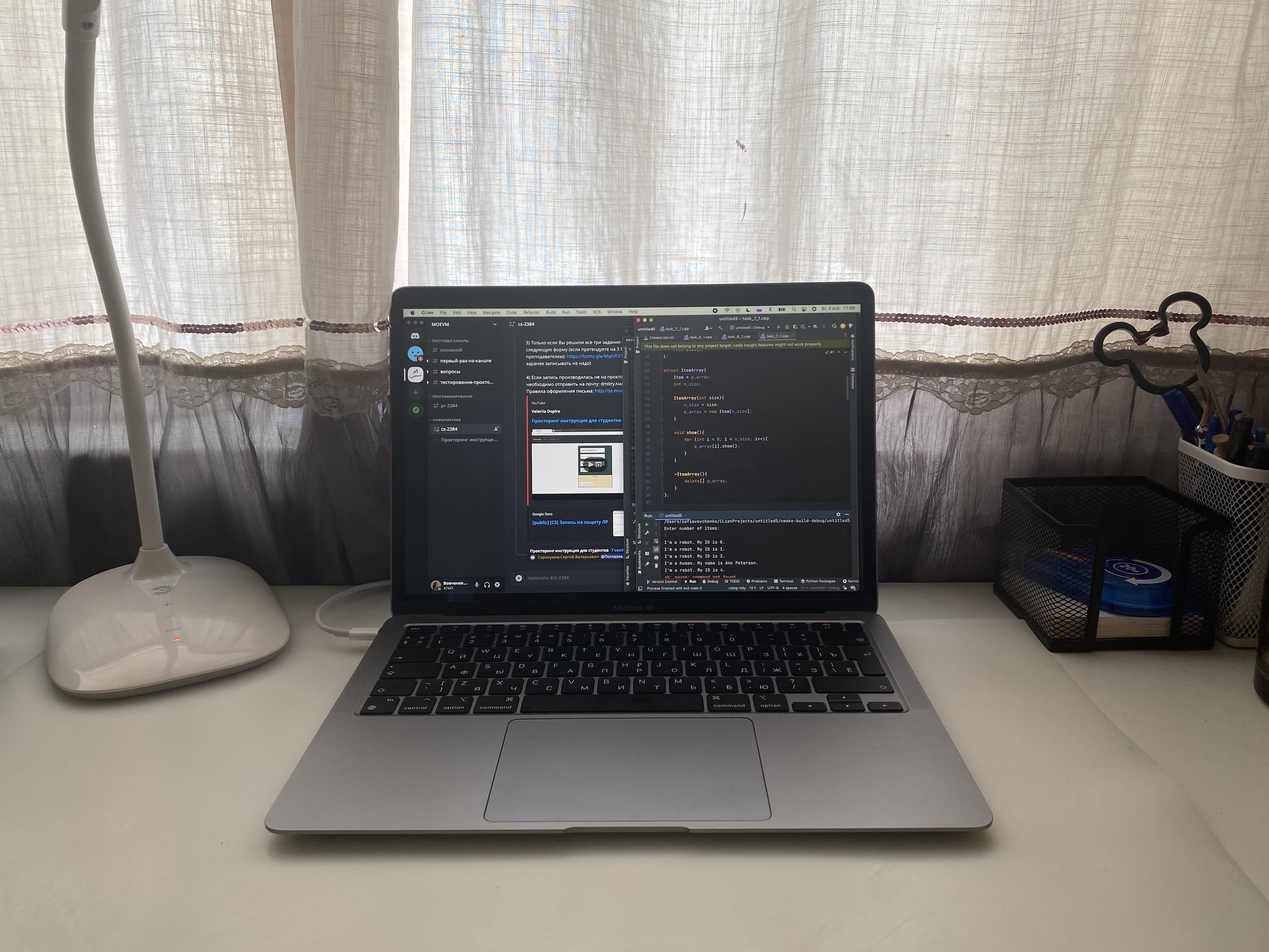monitor: (384, 275, 880, 620)
